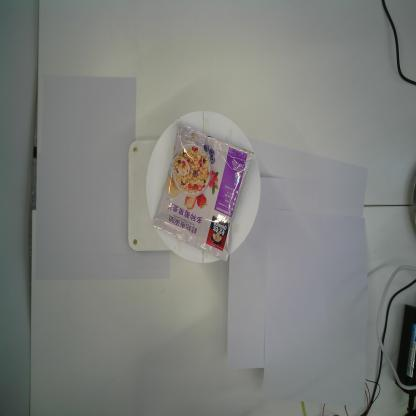Instant Drink: (151, 120, 255, 263)
